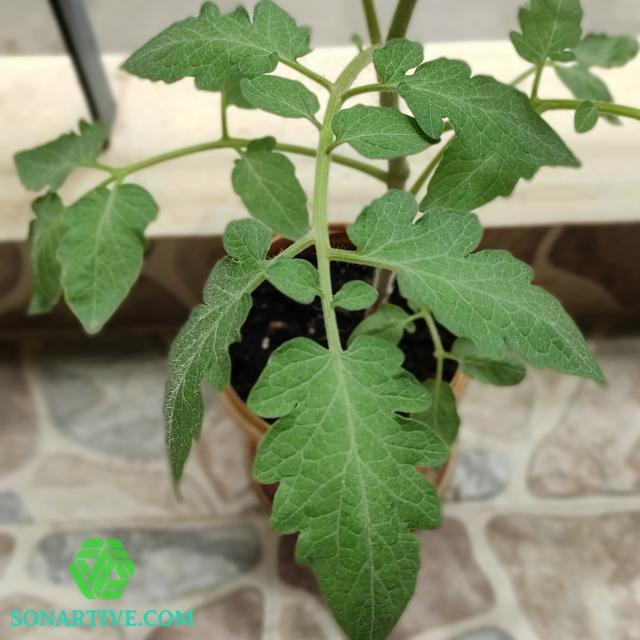Healthy Leaf: (260, 317, 435, 640), (352, 194, 622, 388), (371, 32, 594, 174), (122, 0, 314, 88), (54, 178, 150, 332), (228, 138, 312, 241), (322, 90, 432, 164), (259, 248, 327, 310)
